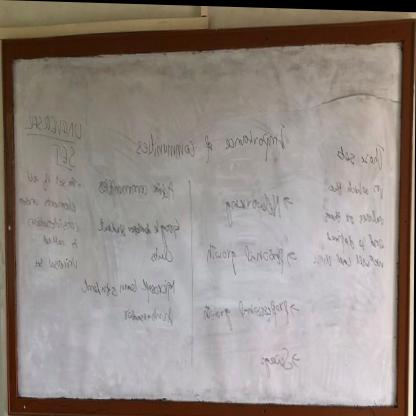Handwritten text: (134, 114, 290, 167), (199, 291, 290, 333), (205, 235, 285, 276), (80, 270, 176, 303), (99, 212, 186, 244), (97, 173, 177, 207), (221, 186, 281, 229), (334, 131, 387, 170), (319, 201, 387, 229), (23, 109, 84, 140), (121, 304, 179, 333), (322, 228, 390, 252), (258, 338, 295, 381), (326, 174, 389, 199), (20, 169, 79, 192), (15, 193, 81, 212), (24, 214, 81, 234), (33, 252, 80, 275), (53, 141, 79, 168), (147, 244, 176, 268), (40, 235, 80, 250)
Whiteboard: (6, 26, 407, 409)
